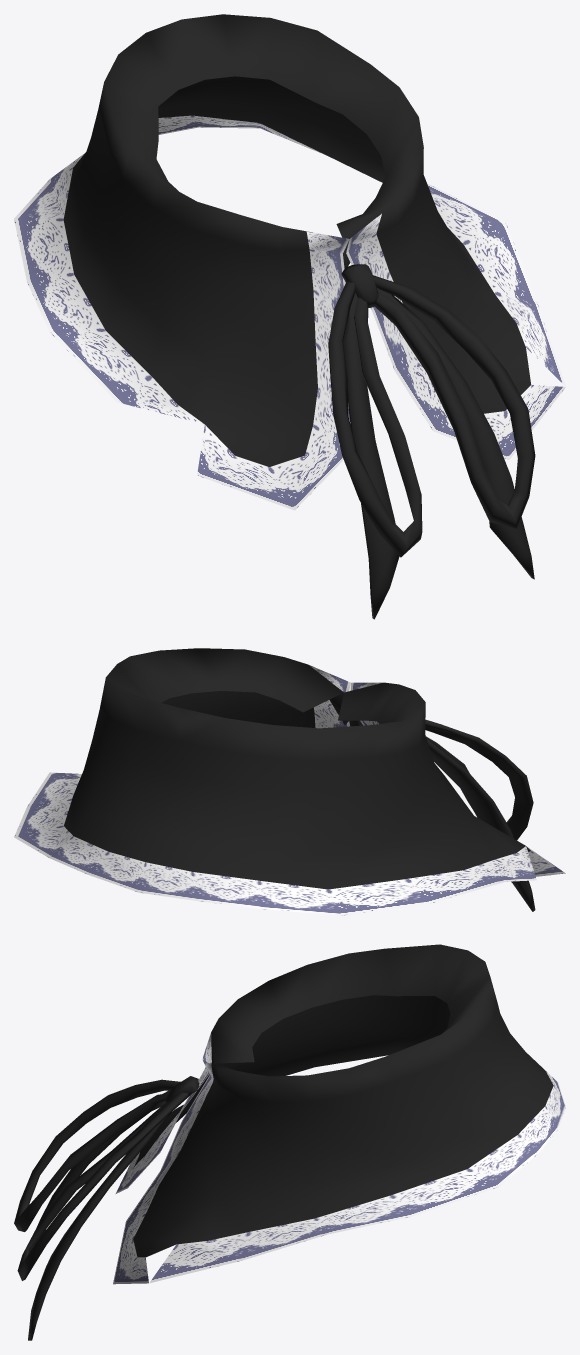
File: maid-collar.fbx
The picture shows the model from 3 angles, top to bottom: view 1: azimuth 30°, elevation 25°; view 2: azimuth 150°, elevation 25°; view 3: azimuth 270°, elevation 25°; orthographic projection. The views are drawn at different scales.
Parts seen in each view (by area): view 1: カスタム少女_mesh; view 2: カスタム少女_mesh; view 3: カスタム少女_mesh.
Boxes of the visible parts, x1,y1,x2,y2 form: カスタム少女_mesh: (14,14,565,619); カスタム少女_mesh: (14,648,565,915); カスタム少女_mesh: (14,944,565,1340).
Size of the model in its own units: 13 by 10.44 by 15.86.
2 materials, 2 textured.
